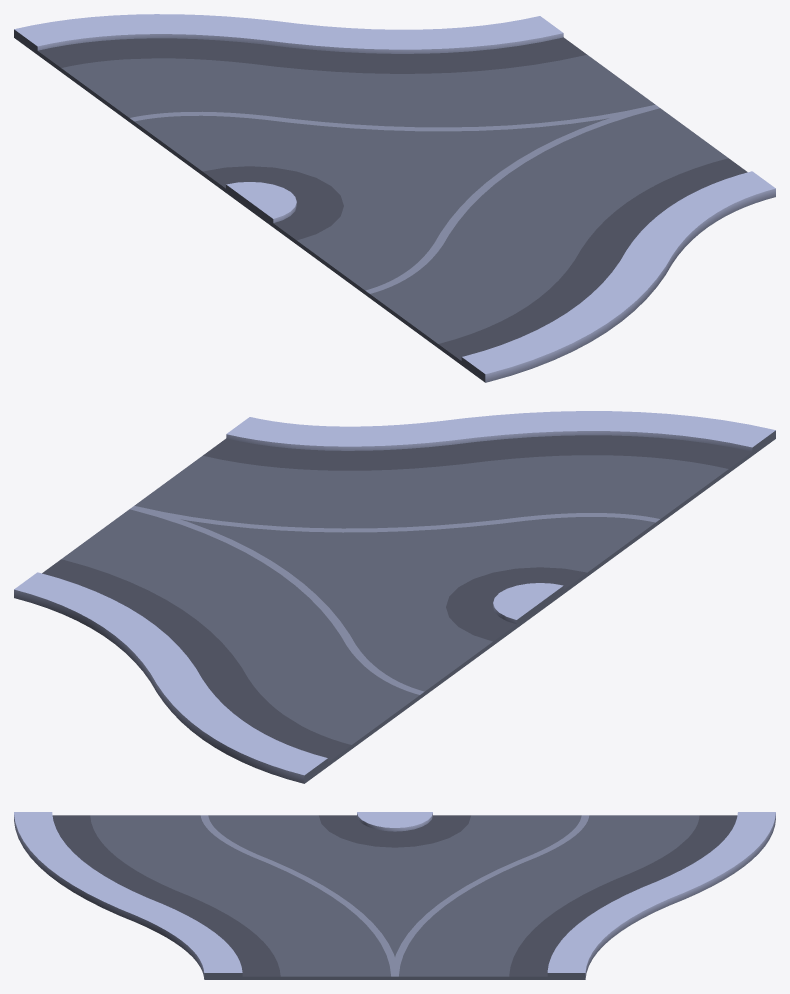
The model's file is road-split.glb.
The picture shows the model from 3 angles, top to bottom: view 1: azimuth 30°, elevation 25°; view 2: azimuth 150°, elevation 25°; view 3: azimuth 270°, elevation 25°; orthographic projection. The views are drawn at different scales.
Visible parts, largest first — view 1: road-split; view 2: road-split; view 3: road-split.
Boxes of the visible parts, bbox=[...] form: road-split: bbox=[14, 14, 775, 382]; road-split: bbox=[14, 411, 775, 783]; road-split: bbox=[14, 812, 775, 979].
Bounding box in the file's own units: 1 × 0.02 × 2.
Materials: 1 (1 with a texture image).
